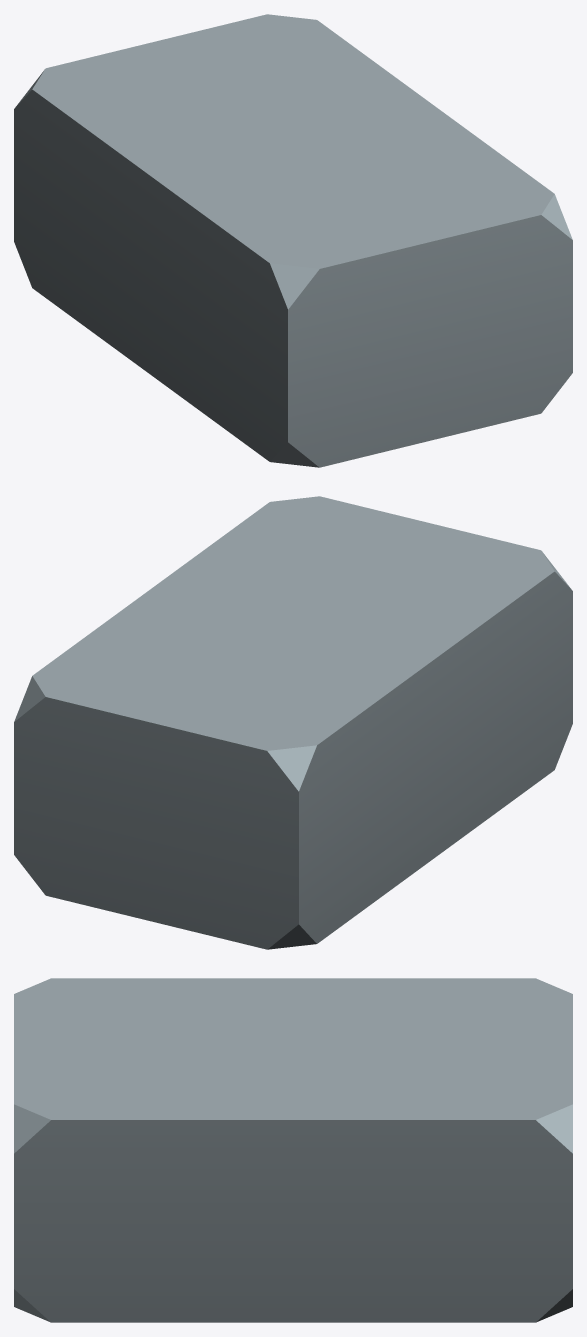
Rendered from stone.glb.
3 renders of one model, top to bottom at view 1: azimuth 30°, elevation 25°; view 2: azimuth 150°, elevation 25°; view 3: azimuth 270°, elevation 25°, orthographic.
Visible parts, largest first — view 1: Stone_Brick; view 2: Stone_Brick; view 3: Stone_Brick.
Part boxes in pixels (<box>): Stone_Brick: <box>14,14,572,467</box>; Stone_Brick: <box>14,496,572,949</box>; Stone_Brick: <box>14,978,572,1322</box>.
Size of the model in its own units: 0.153 by 0.102 by 0.255.
Materials: 1 (1 with a texture image).
